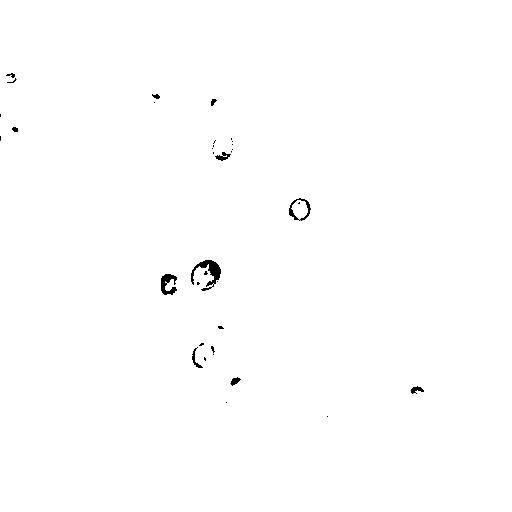micro-algae: (401, 0, 452, 42), (218, 360, 257, 406), (189, 260, 223, 293), (211, 132, 236, 164), (191, 341, 217, 371), (158, 268, 182, 299), (247, 144, 274, 171), (1, 114, 27, 142), (288, 198, 312, 222), (406, 383, 428, 400), (2, 71, 18, 85)
